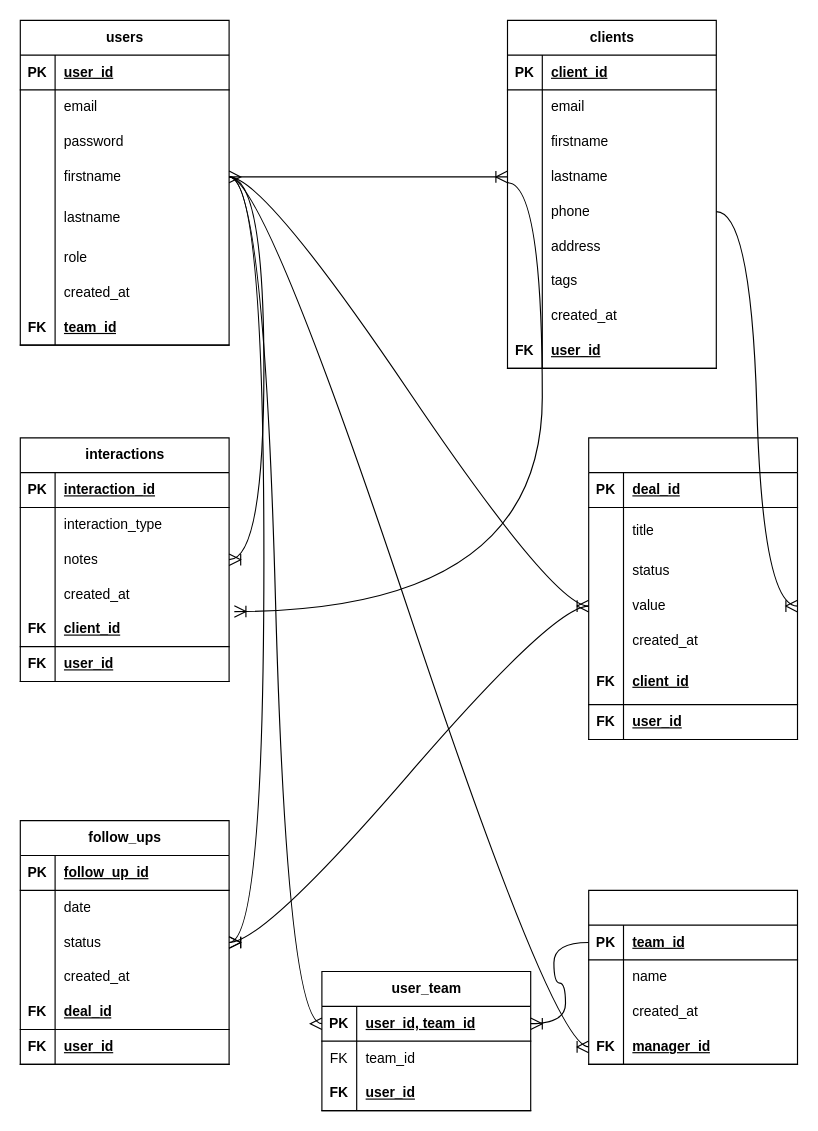
The diagram is 818 pixels wide and 1131 high, and some of its shapes have lost their labels. The shapes that lost their labels are listed below. From the top down, each one's box as (x1, y1, x2, y2) in pixels, then its label:
(588, 437, 798, 740): deals
(588, 889, 798, 1064): teams
